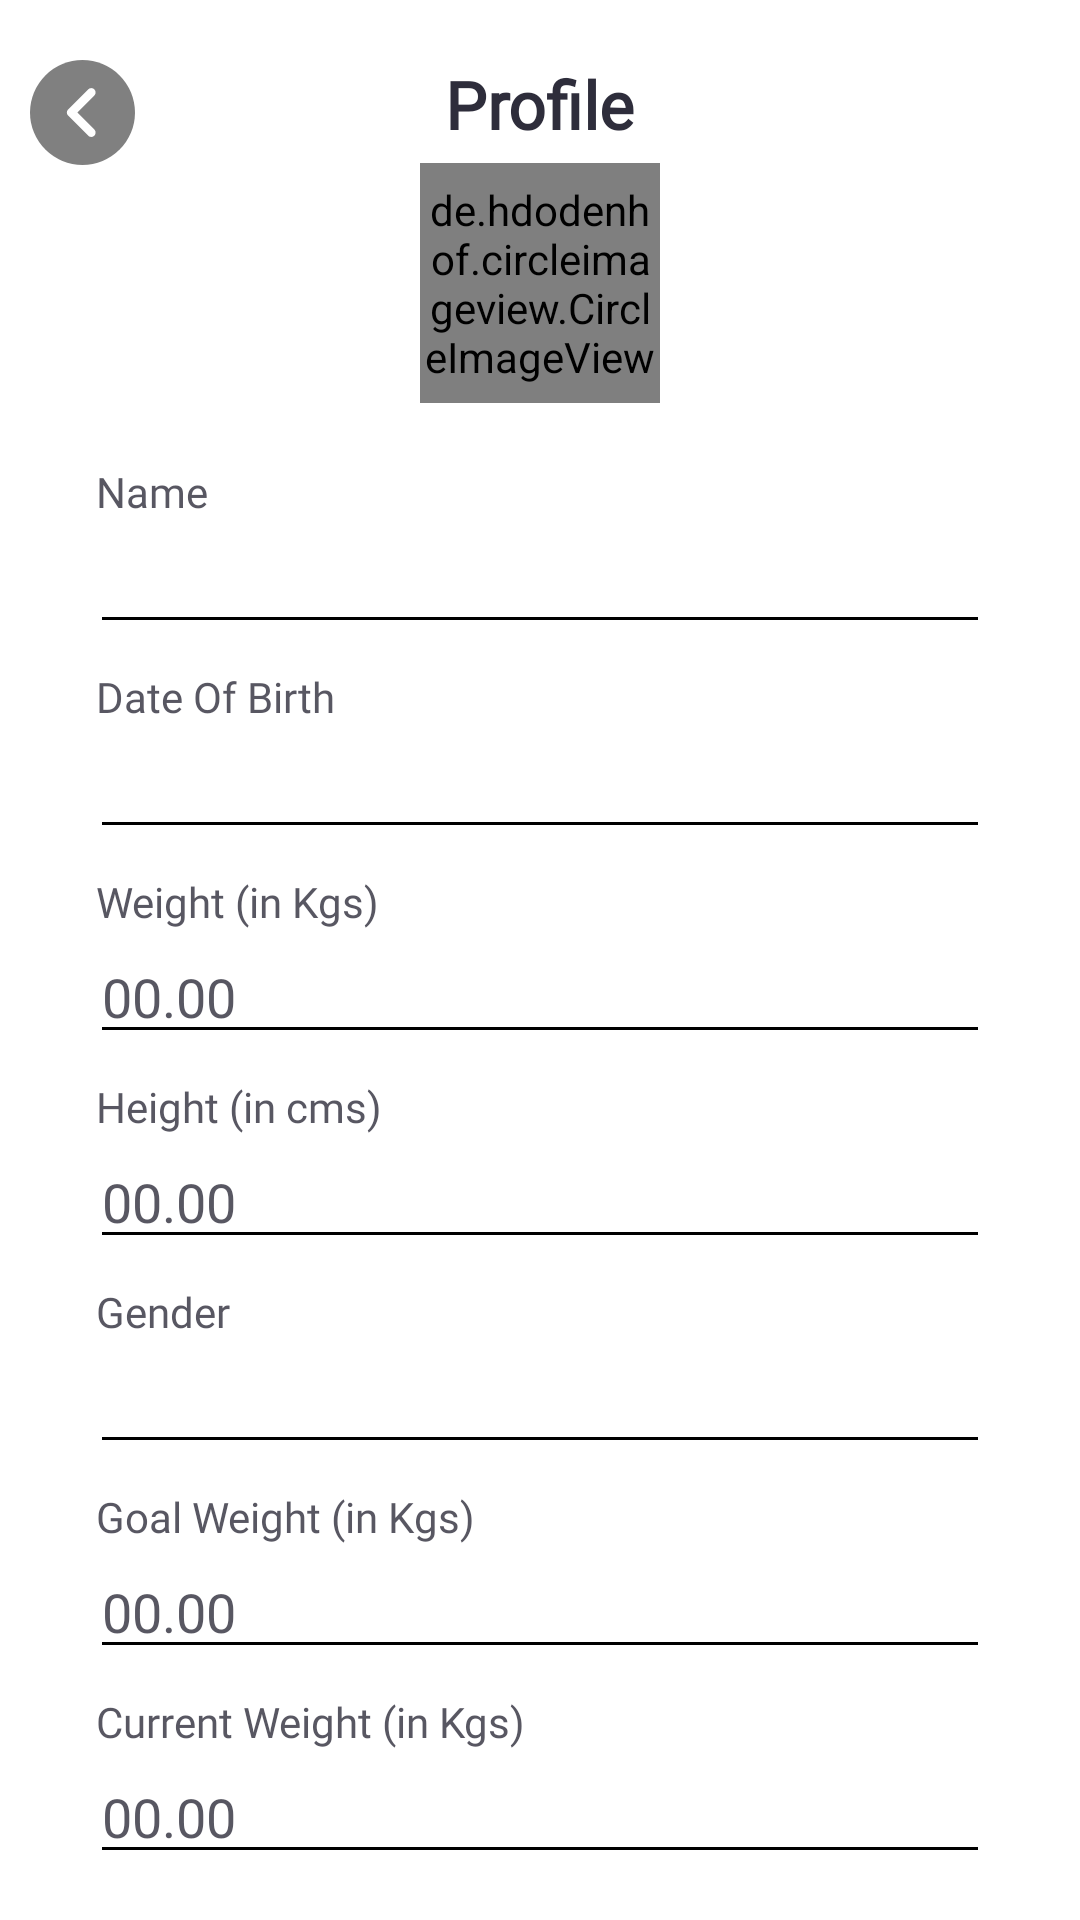

Named icons in this screenshot (1080*1920) and their centers, (x,y):
left: (82,112)
